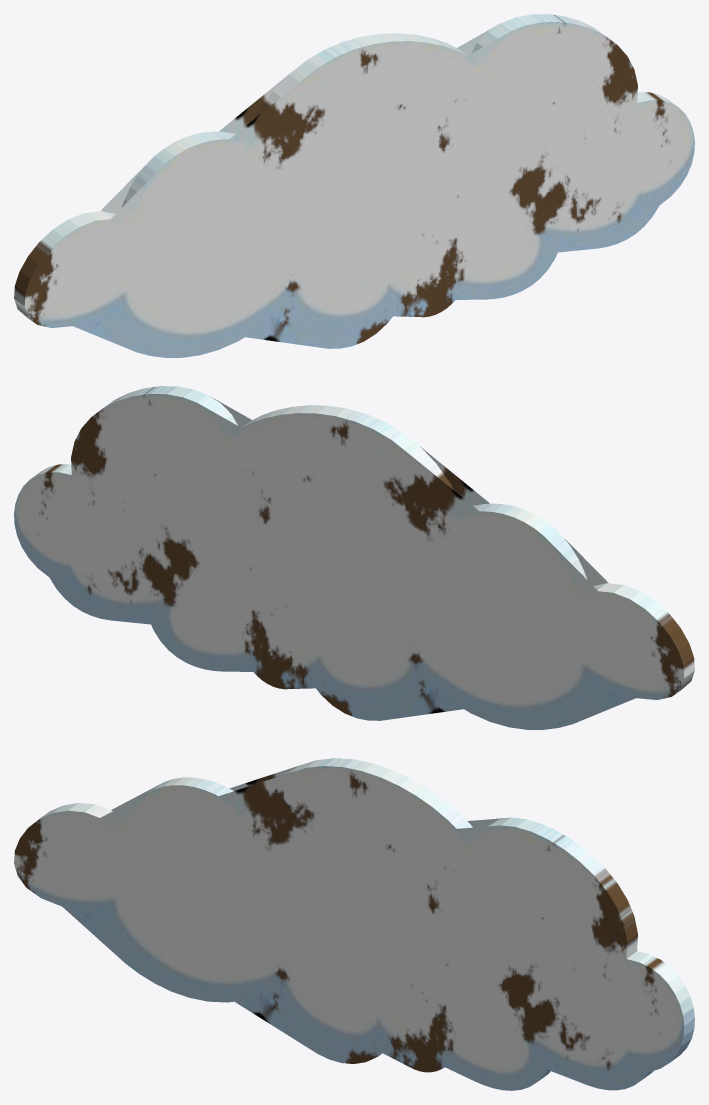
The model's file is nuve 5.fbx.
3 views of the same model, one above another, from view 1: azimuth 30°, elevation 25°; view 2: azimuth 150°, elevation 25°; view 3: azimuth 330°, elevation 25° (orthographic).
Visible parts, largest first — view 1: nuve 5; view 2: nuve 5; view 3: nuve 5.
Part boxes in pixels (left/top/right/bottom): nuve 5: left=14, top=14, right=694, bottom=357; nuve 5: left=14, top=386, right=694, bottom=729; nuve 5: left=14, top=758, right=694, bottom=1090.
Bounding box in the file's own units: 642 × 272 × 17.73.
1 material, 1 textured.
